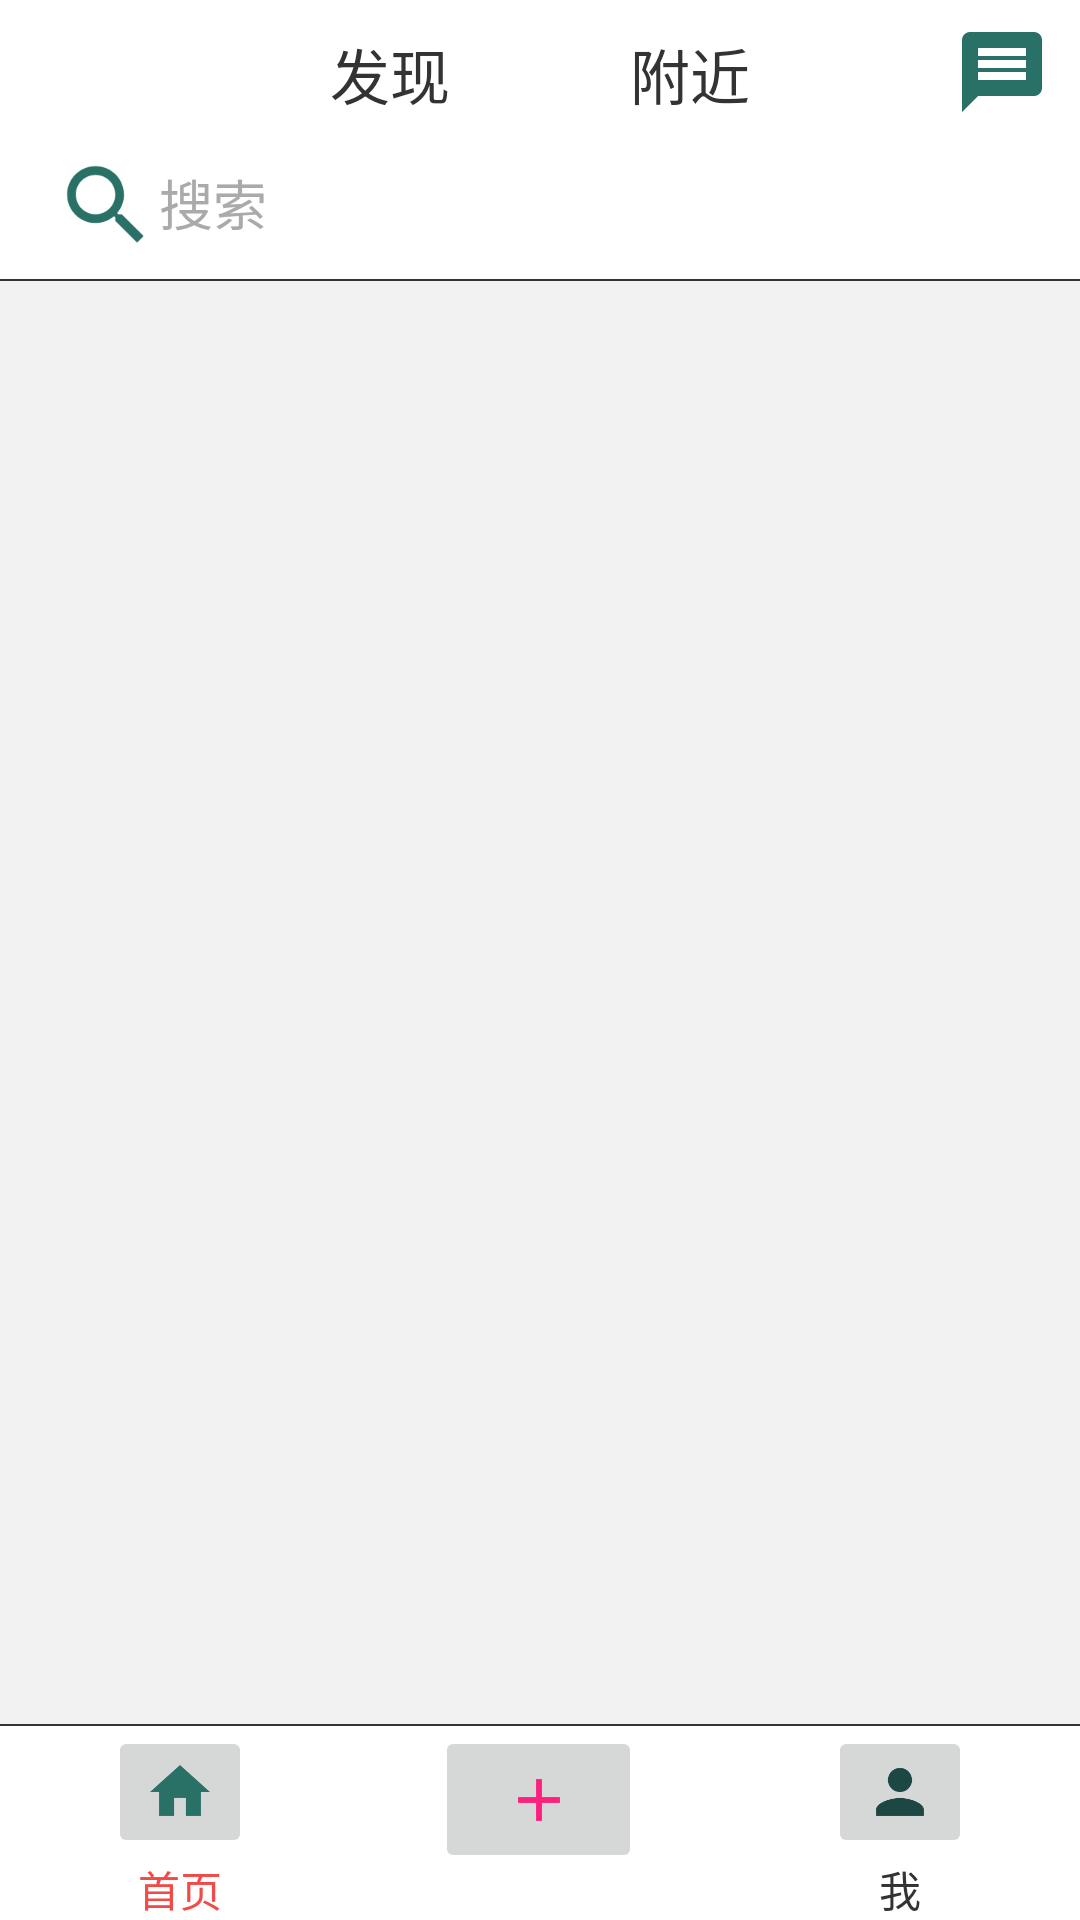

Named icons in this screenshot (1080*1920) and their bounding boxes, (x1=x1, y1=y1, x2=x2, y2=y2):
add: (x1=447, y1=1744, x2=630, y2=1855)
message: (x1=962, y1=32, x2=1042, y2=112)
person: (x1=840, y1=1744, x2=960, y2=1840)
